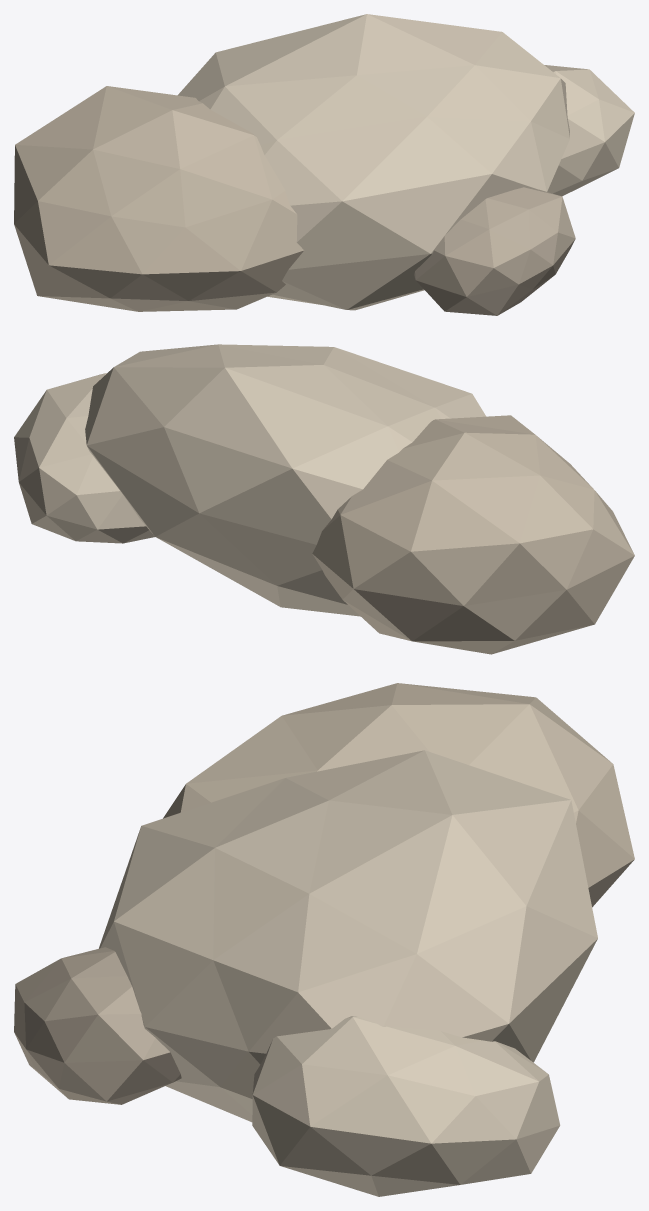
Rendered from campo_rock_cluster_8.glb.
3 renders of one model, top to bottom at view 1: azimuth 30°, elevation 25°; view 2: azimuth 150°, elevation 25°; view 3: azimuth 270°, elevation 25°, orthographic. The views are drawn at different scales.
Visible parts, largest first — view 1: campo_rock_cluster_8.glb; view 2: campo_rock_cluster_8.glb; view 3: campo_rock_cluster_8.glb.
Boxes of the visible parts, x1,y1,x2,y2 form: campo_rock_cluster_8.glb: [14, 14, 634, 315]; campo_rock_cluster_8.glb: [14, 344, 634, 654]; campo_rock_cluster_8.glb: [14, 683, 634, 1196].
Size of the model in its own units: 2.82 by 1.04 by 1.85.
